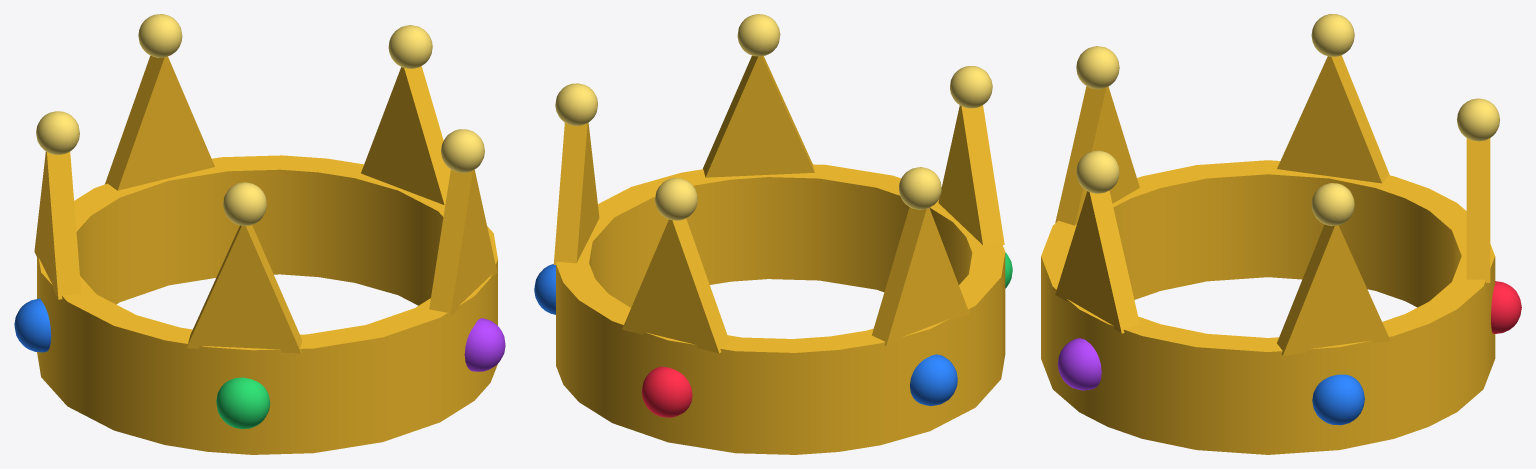
The model's file is crown_admin.obj.
3 renders of one model, left to right at view 1: azimuth 30°, elevation 25°; view 2: azimuth 150°, elevation 25°; view 3: azimuth 270°, elevation 25°, orthographic. The views are drawn at different scales.
Parts seen in each view (by area): view 1: Band, Point0L, Point4R, Point3R, Point2L, Point1L, Point2R, Point0R, Point4L, Gem2, Gem3, Gem1 (+7 smaller); view 2: Band, Point0L, Point1R, Point2R, Point3L, Point4L, Point3R, Point0R, Point1L, Gem0, Gem1, Tip0 (+7 smaller); view 3: Band, Point3L, Point4R, Point1R, Point0R, Point4L, Point1L, Point2L, Point3R, Gem4, Gem3, Point2R (+6 smaller).
Part boxes in pixels (x1=…): Band: x1=37, y1=155, x2=497, y2=454; Point0L: x1=105, y1=55, x2=166, y2=190; Point4R: x1=402, y1=66, x2=450, y2=205; Point3R: x1=429, y1=169, x2=473, y2=316; Point2L: x1=243, y1=225, x2=302, y2=353; Point1L: x1=46, y1=151, x2=81, y2=299; Point2R: x1=186, y1=225, x2=243, y2=348; Point0R: x1=166, y1=56, x2=214, y2=178; Point4L: x1=361, y1=67, x2=402, y2=188; Gem2: x1=216, y1=377, x2=270, y2=429; Gem3: x1=464, y1=318, x2=505, y2=371; Gem1: x1=14, y1=298, x2=51, y2=352; Band: x1=556, y1=164, x2=1005, y2=454; Point0L: x1=670, y1=218, x2=729, y2=353; Point1R: x1=872, y1=207, x2=927, y2=345; Point2R: x1=960, y1=105, x2=1004, y2=245; Point3L: x1=703, y1=55, x2=760, y2=177; Point4L: x1=553, y1=123, x2=587, y2=264; Point3R: x1=760, y1=56, x2=814, y2=175; Point0R: x1=622, y1=219, x2=670, y2=338; Point1L: x1=928, y1=208, x2=969, y2=326; Gem0: x1=641, y1=366, x2=692, y2=417; Gem1: x1=910, y1=354, x2=957, y2=406; Tip0: x1=655, y1=178, x2=697, y2=220; Band: x1=1041, y1=160, x2=1495, y2=454; Point3L: x1=1088, y1=190, x2=1139, y2=333; Point4R: x1=1277, y1=224, x2=1336, y2=355; Point1R: x1=1329, y1=55, x2=1389, y2=183; Point0R: x1=1466, y1=138, x2=1490, y2=282; Point4L: x1=1336, y1=225, x2=1390, y2=345; Point1L: x1=1277, y1=56, x2=1329, y2=176; Point2L: x1=1055, y1=86, x2=1107, y2=225; Point3R: x1=1055, y1=191, x2=1088, y2=310; Gem4: x1=1312, y1=374, x2=1364, y2=425; Gem3: x1=1057, y1=338, x2=1101, y2=390; Point2R: x1=1107, y1=86, x2=1139, y2=203.
Bounding box in the file's own units: 1.45 × 0.855 × 1.44.
